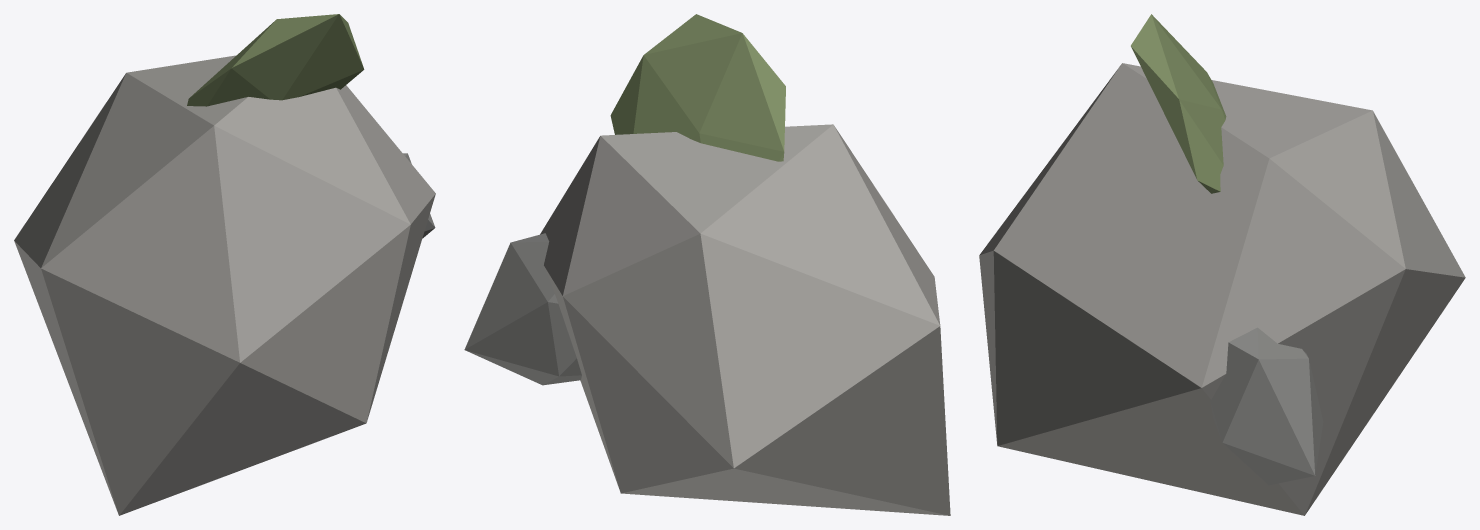
File: v_rock_c.glb
3 renders of one model, left to right at view 1: azimuth 30°, elevation 25°; view 2: azimuth 150°, elevation 25°; view 3: azimuth 270°, elevation 25°, orthographic. The views are drawn at different scales.
Parts seen in each view (by area): view 1: Rock; view 2: Rock; view 3: Rock.
Boxes of the visible parts, <box> form: Rock: <box>14,14,435,515</box>; Rock: <box>464,14,950,515</box>; Rock: <box>979,14,1465,515</box>.
Size of what is drawn, in the model's own units: 3.78 by 3.85 by 3.35.
